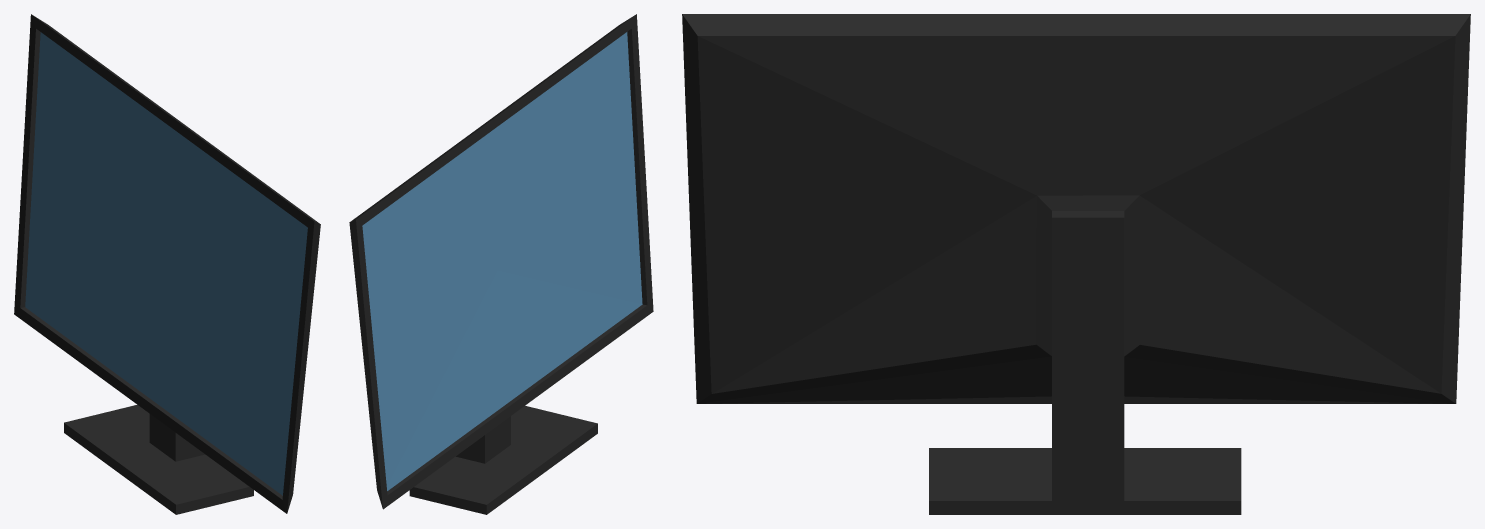
File: Television.FBX
3 views of the same model, side by side, from view 1: azimuth 30°, elevation 25°; view 2: azimuth 150°, elevation 25°; view 3: azimuth 270°, elevation 25° (orthographic). The views are drawn at different scales.
Visible parts, largest first — view 1: Box001; view 2: Box001; view 3: Box001.
Part boxes in pixels (x1,y1,x2,y2): Box001: (14, 14, 320, 514); Box001: (349, 14, 653, 514); Box001: (682, 14, 1470, 514).
Size of the model in its own units: 8 by 34.04 by 50.51.
